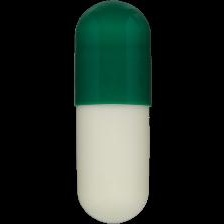62584-741: (0, 0, 224, 224)
